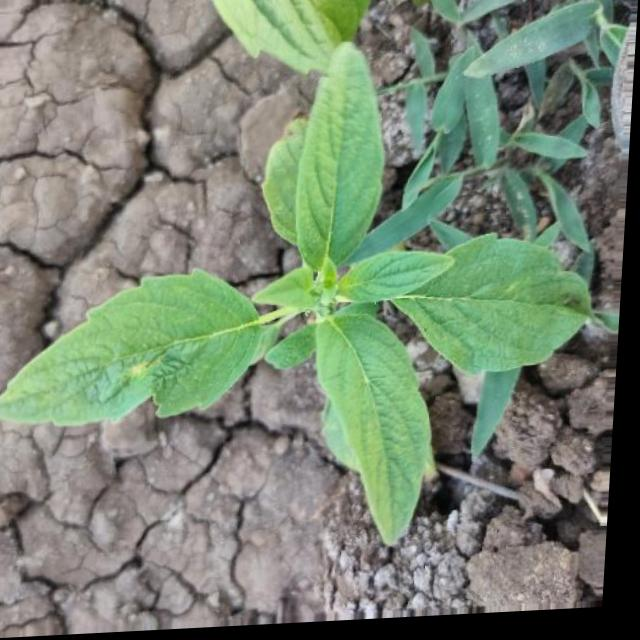crop: (0, 24, 614, 575)
